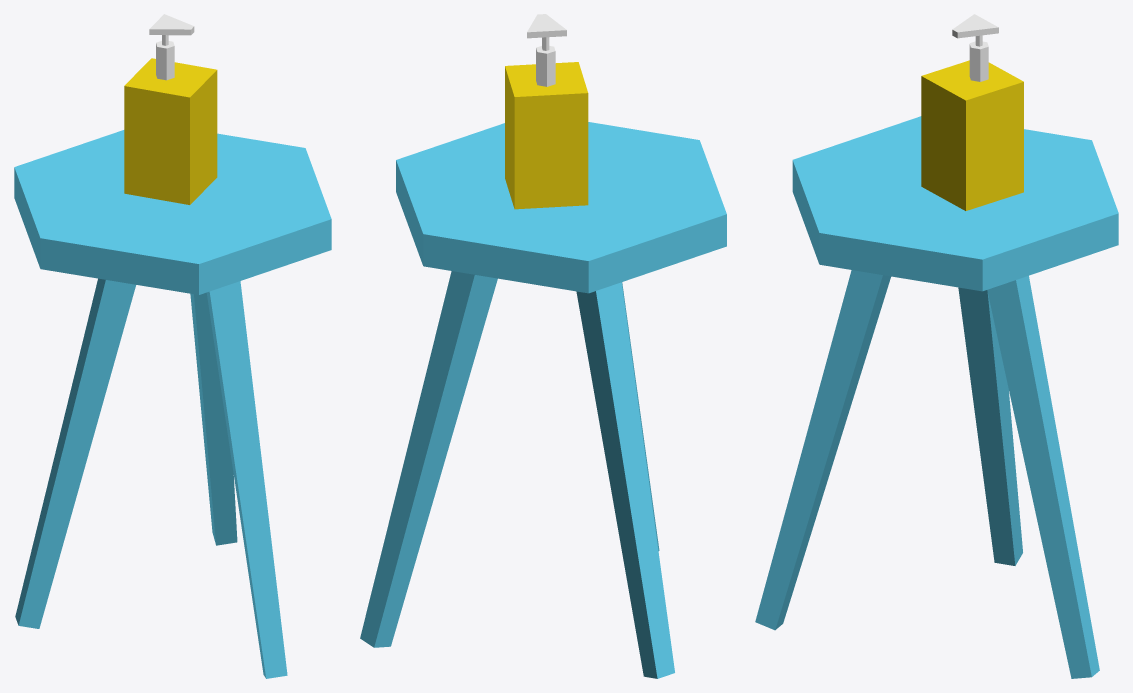
File: s_tabure.obj
3 renders of one model, left to right at view 1: azimuth 30°, elevation 25°; view 2: azimuth 150°, elevation 25°; view 3: azimuth 270°, elevation 25°, orthographic. The views are drawn at different scales.
Parts seen in each view (by area): view 1: chair.013_m_babyblue, liquid_soap.012_m_yellow, liquid_soap.012_m_white; view 2: chair.013_m_babyblue, liquid_soap.012_m_yellow, liquid_soap.012_m_white; view 3: chair.013_m_babyblue, liquid_soap.012_m_yellow, liquid_soap.012_m_white.
Part boxes in pixels (box(x1,y1,x2,y2)): chair.013_m_babyblue: box(14, 130, 331, 678); liquid_soap.012_m_yellow: box(124, 58, 217, 204); liquid_soap.012_m_white: box(149, 14, 194, 80); chair.013_m_babyblue: box(360, 122, 726, 678); liquid_soap.012_m_yellow: box(505, 62, 588, 209); liquid_soap.012_m_white: box(527, 14, 566, 86); chair.013_m_babyblue: box(755, 116, 1118, 678); liquid_soap.012_m_yellow: box(921, 60, 1023, 210); liquid_soap.012_m_white: box(952, 14, 998, 81).
Bounding box in the file's own units: 7.5 × 14.33 × 7.88.
